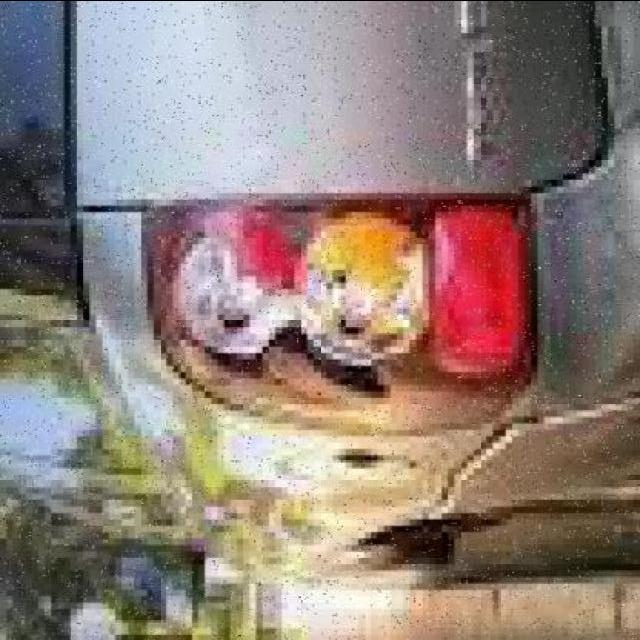Taillight-Damage: (128, 179, 538, 435)
